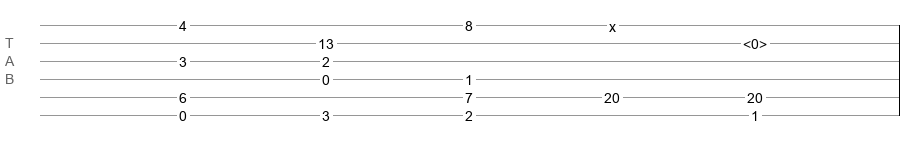0: (179, 108, 187, 118), (322, 72, 330, 82)
1: (465, 72, 473, 82), (751, 108, 759, 118)
13: (318, 36, 334, 46)
2: (322, 54, 330, 64), (465, 108, 473, 118)
20: (604, 90, 620, 100), (747, 90, 763, 100)
3: (179, 54, 187, 64), (322, 108, 330, 118)
4: (179, 18, 187, 28)
6: (179, 90, 187, 100)
7: (465, 90, 473, 100)
8: (465, 18, 473, 28)
harmonic: (743, 36, 767, 46)
x: (609, 19, 616, 27)
